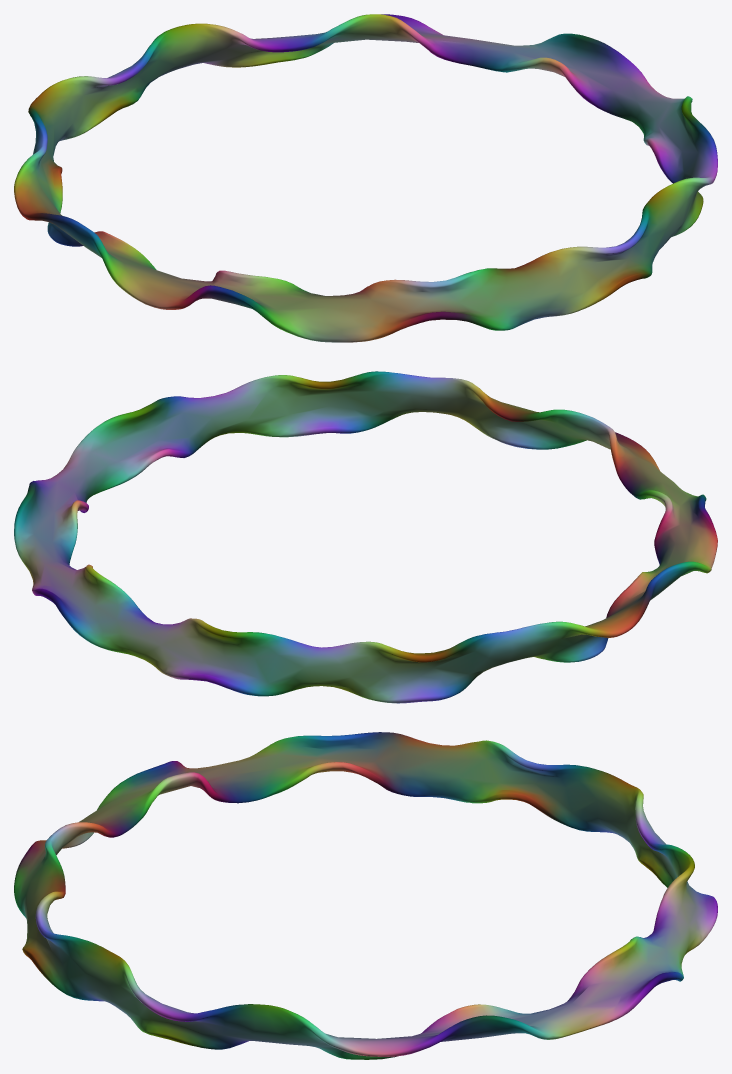
Rendered from RibbonCircle.fbx.
3 renders of one model, top to bottom at view 1: azimuth 30°, elevation 25°; view 2: azimuth 150°, elevation 25°; view 3: azimuth 270°, elevation 25°, orthographic. The views are drawn at different scales.
Visible parts, largest first — view 1: RibbonCircle; view 2: RibbonCircle; view 3: RibbonCircle.
Part boxes in pixels (<box>): RibbonCircle: <box>14,14,717,342</box>; RibbonCircle: <box>14,371,717,703</box>; RibbonCircle: <box>14,732,717,1059</box>.
Bounding box in the file's own units: 2.17 × 0.2004 × 2.15.
